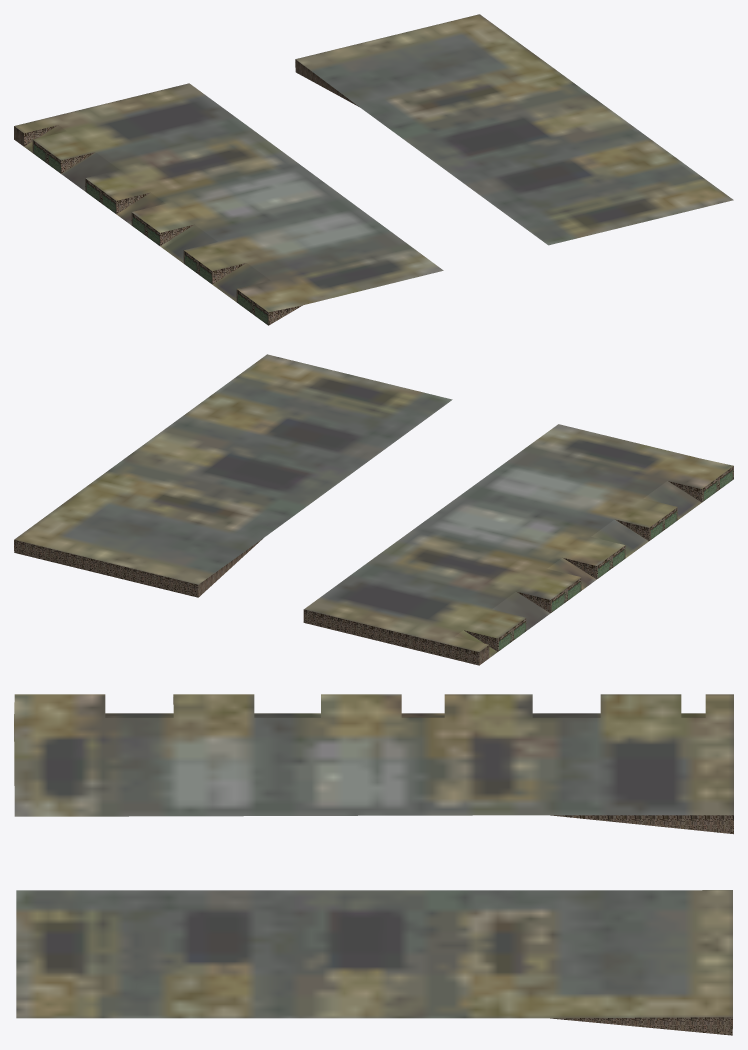
The model's file is lod_jmscum11.obj.
3 views of the same model, one above another, from view 1: azimuth 30°, elevation 25°; view 2: azimuth 150°, elevation 25°; view 3: azimuth 270°, elevation 25° (orthographic). The views are drawn at different scales.
Visible parts, largest first — view 1: lod_jmscum11; view 2: lod_jmscum11; view 3: lod_jmscum11.
Part boxes in pixels (x1,y1,x2,y2): lod_jmscum11: (14, 14, 733, 325); lod_jmscum11: (14, 354, 733, 665); lod_jmscum11: (14, 694, 733, 1035).
Size of the model in its own units: 88.75 by 2.64 by 84.04.
2 materials, 2 textured.
